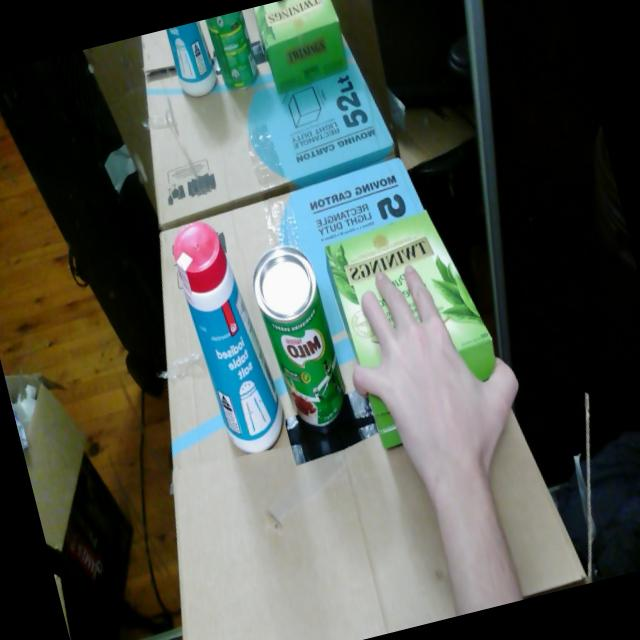nestle_milo_tin: (252, 245, 344, 425)
twinings_greentea_box: (324, 210, 495, 381), (368, 393, 402, 448)
woolworths_salt_bottle: (173, 220, 283, 452)
